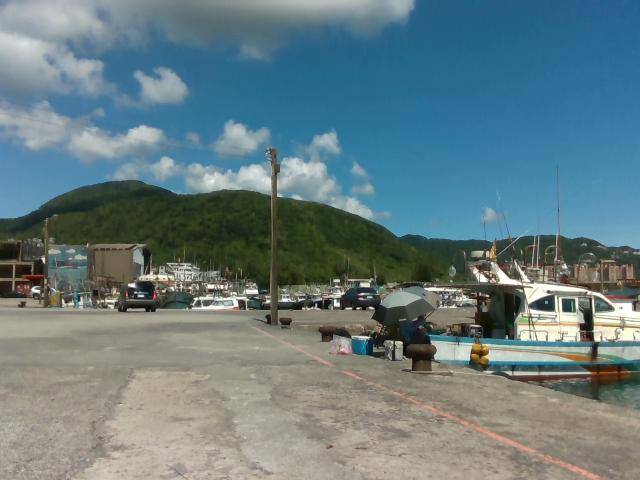pollute: (327, 333, 357, 357)
